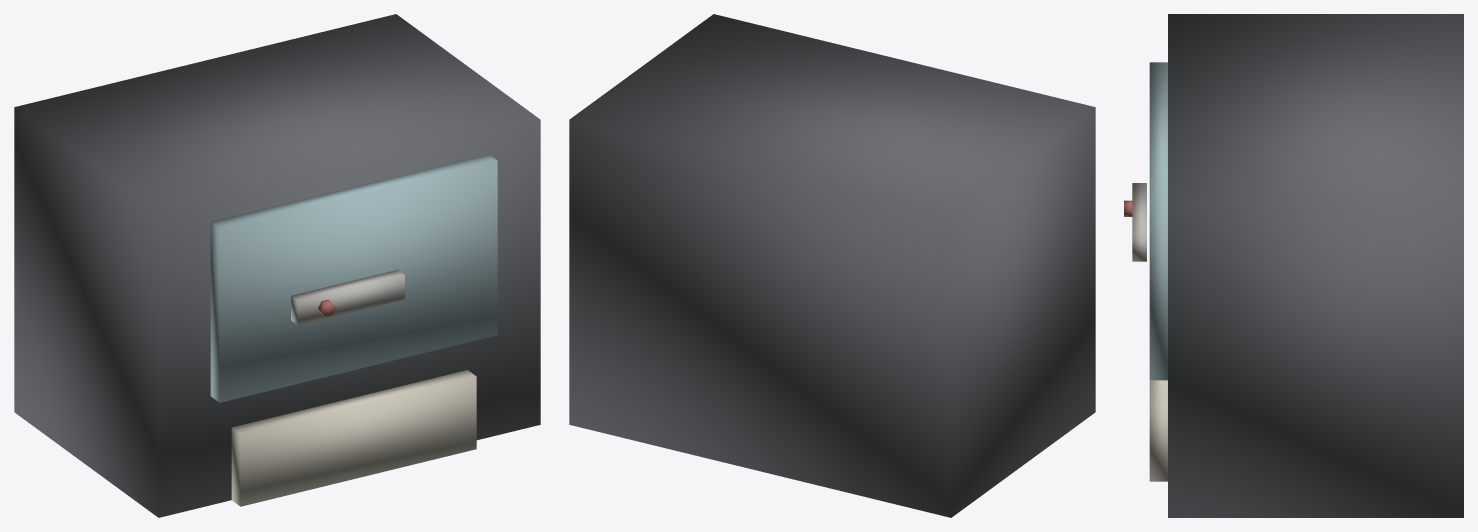
The model's file is flat_monitor.glb.
The picture shows the model from 3 angles, left to right: view 1: azimuth 30°, elevation 25°; view 2: azimuth 150°, elevation 25°; view 3: azimuth 270°, elevation 25°; orthographic projection. The views are drawn at different scales.
Visible parts, largest first — view 1: world; view 2: world; view 3: world.
Boxes of the visible parts, x1,y1,x2,y2 form: world: [14, 14, 540, 517]; world: [569, 14, 1095, 517]; world: [1124, 14, 1463, 517].
Bounding box in the file's own units: 0.55 × 0.42 × 0.4135.
